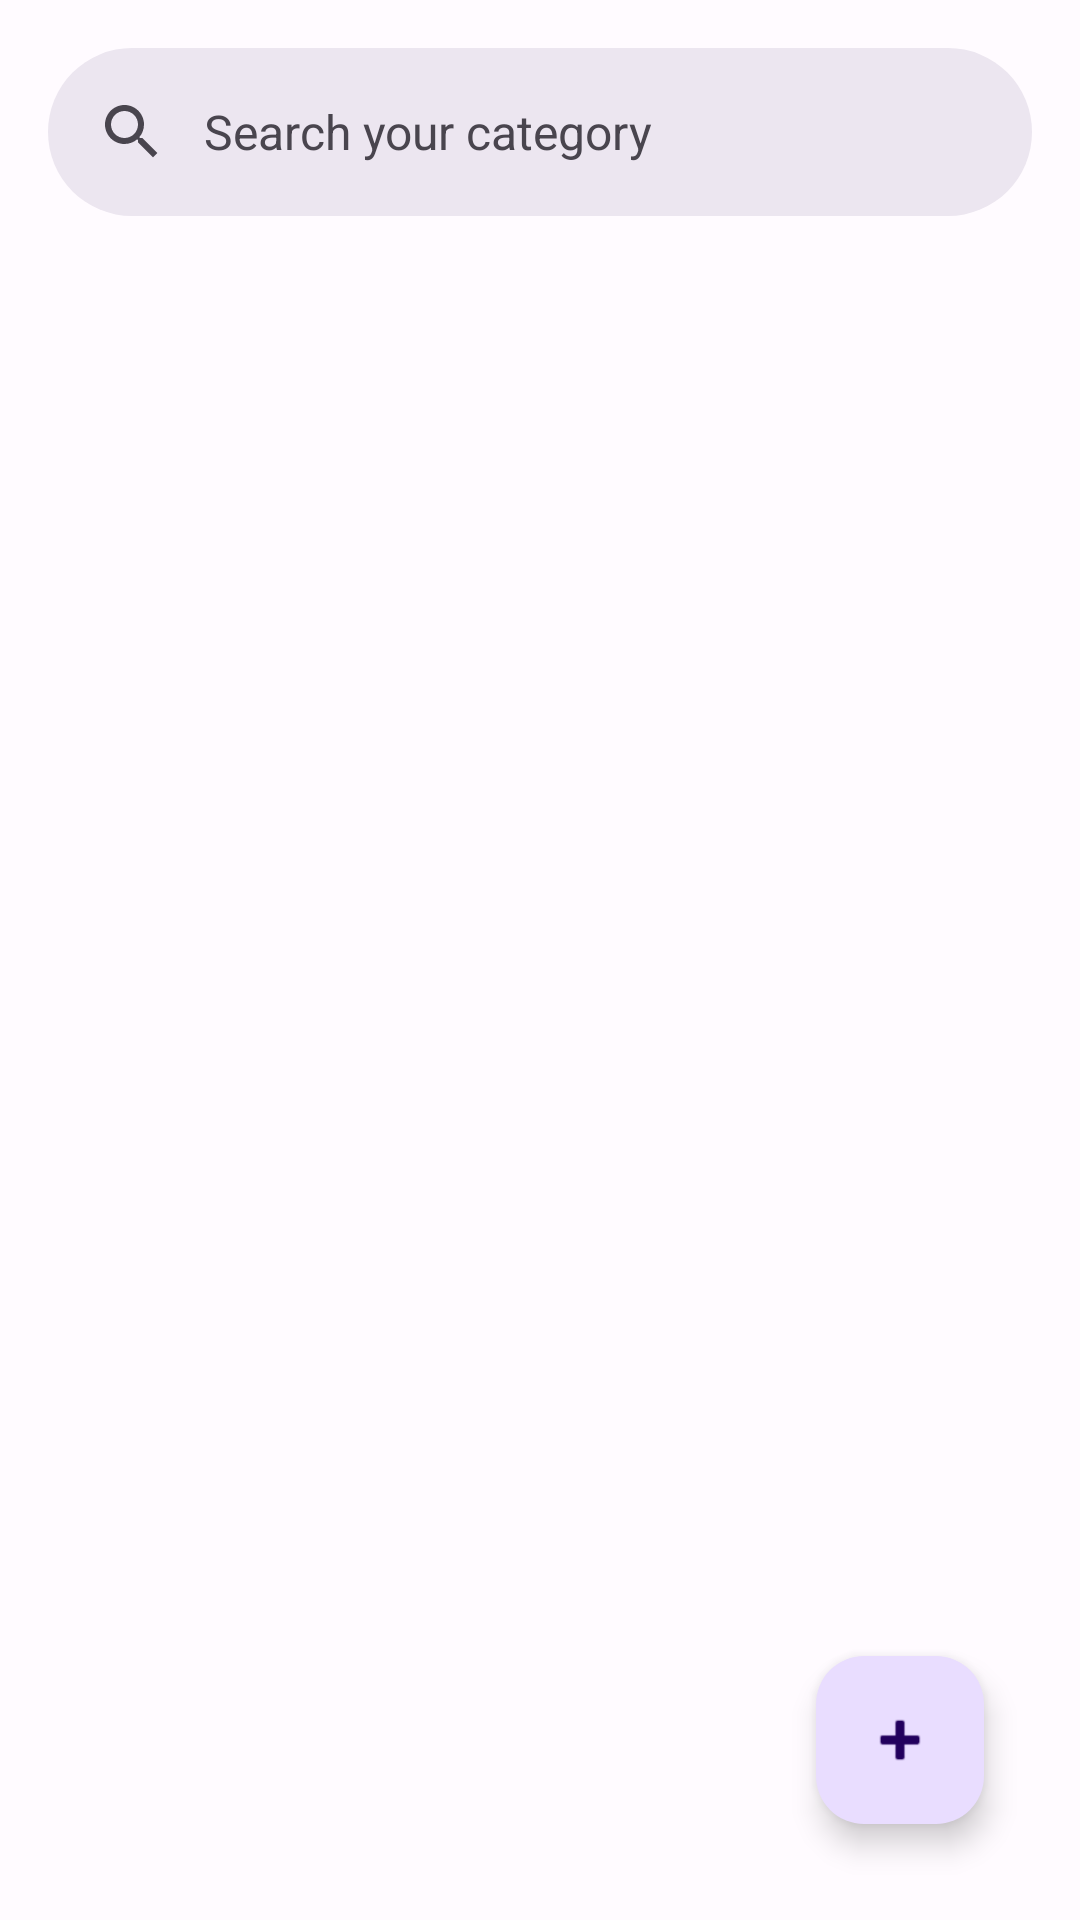

Named icons in this screenshot (1080 x 1920) and their bounding boxes, [x1,y1,x2,y2]:
Create category: [816,1656,984,1824]
